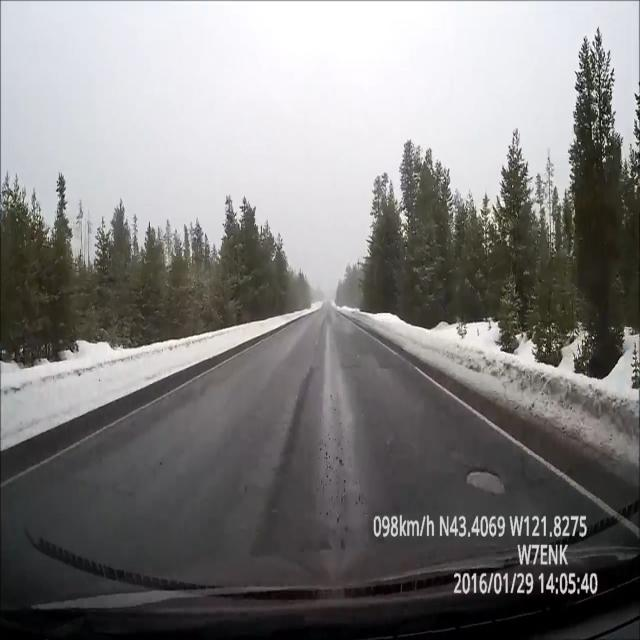Pothole: (462, 454, 514, 503)
